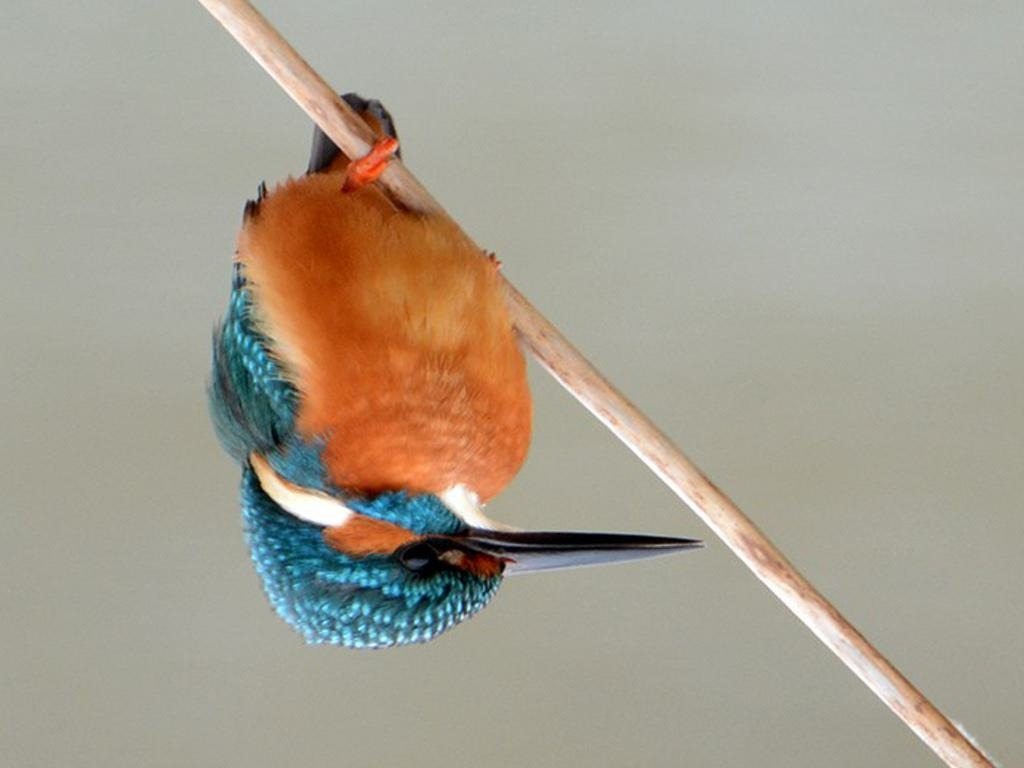kingfisher: (205, 83, 707, 653)
